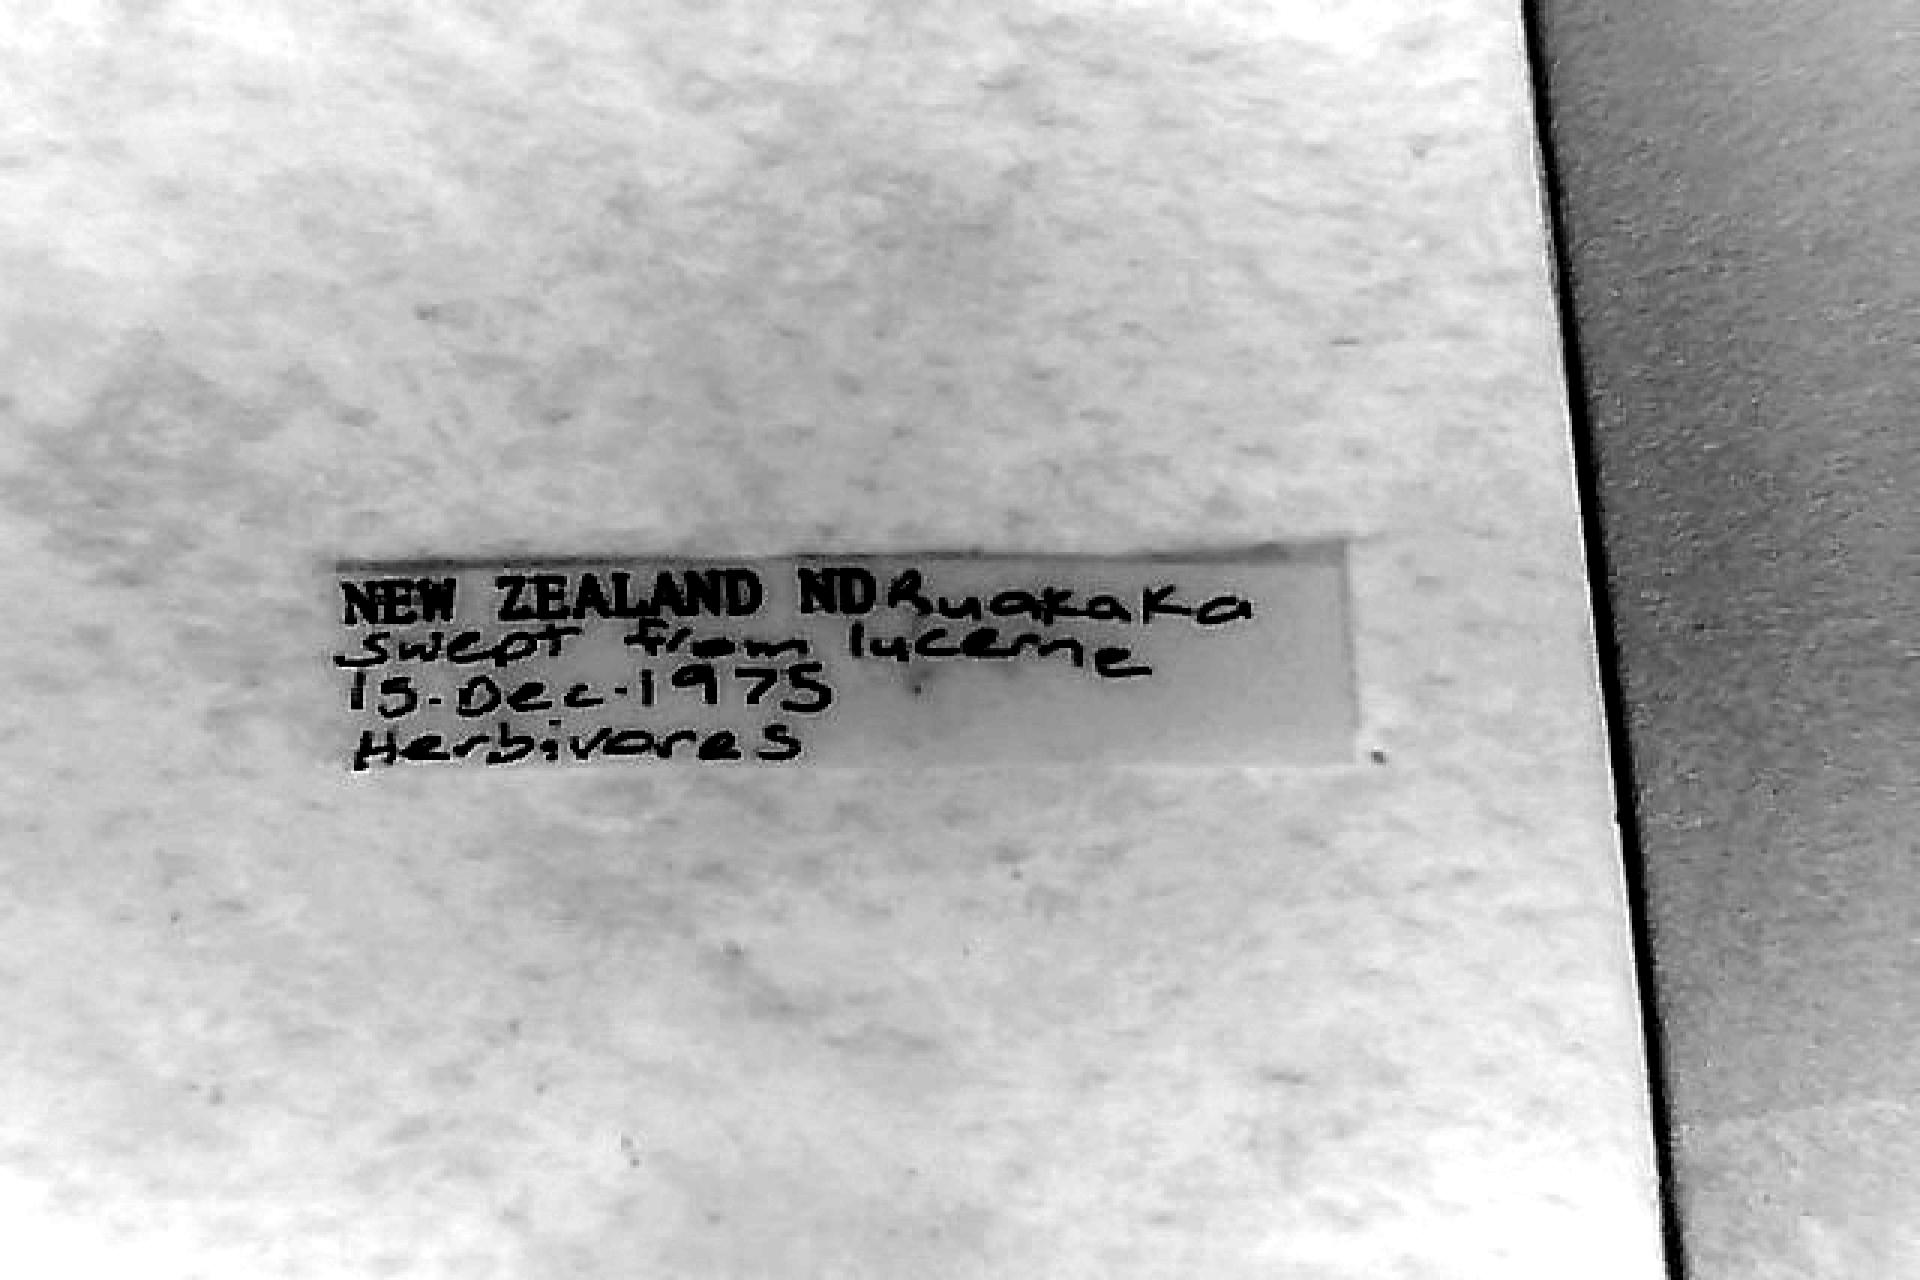typed_label: (334, 552, 1358, 768)
